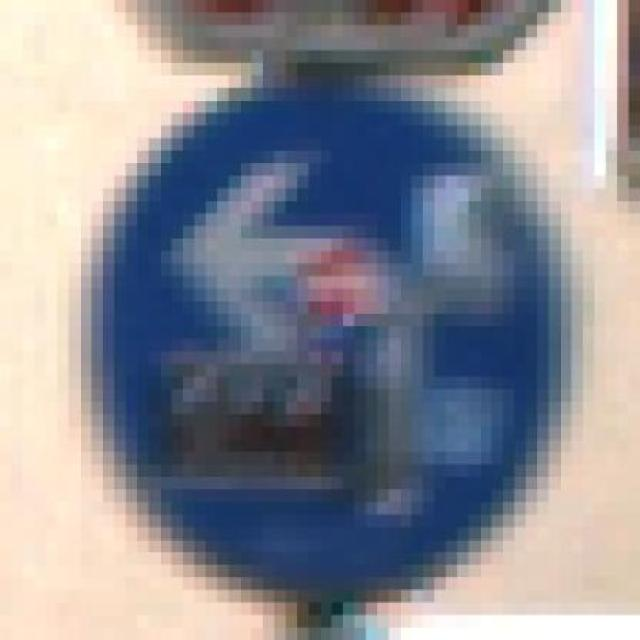Turn left ahead: (43, 71, 569, 574)
